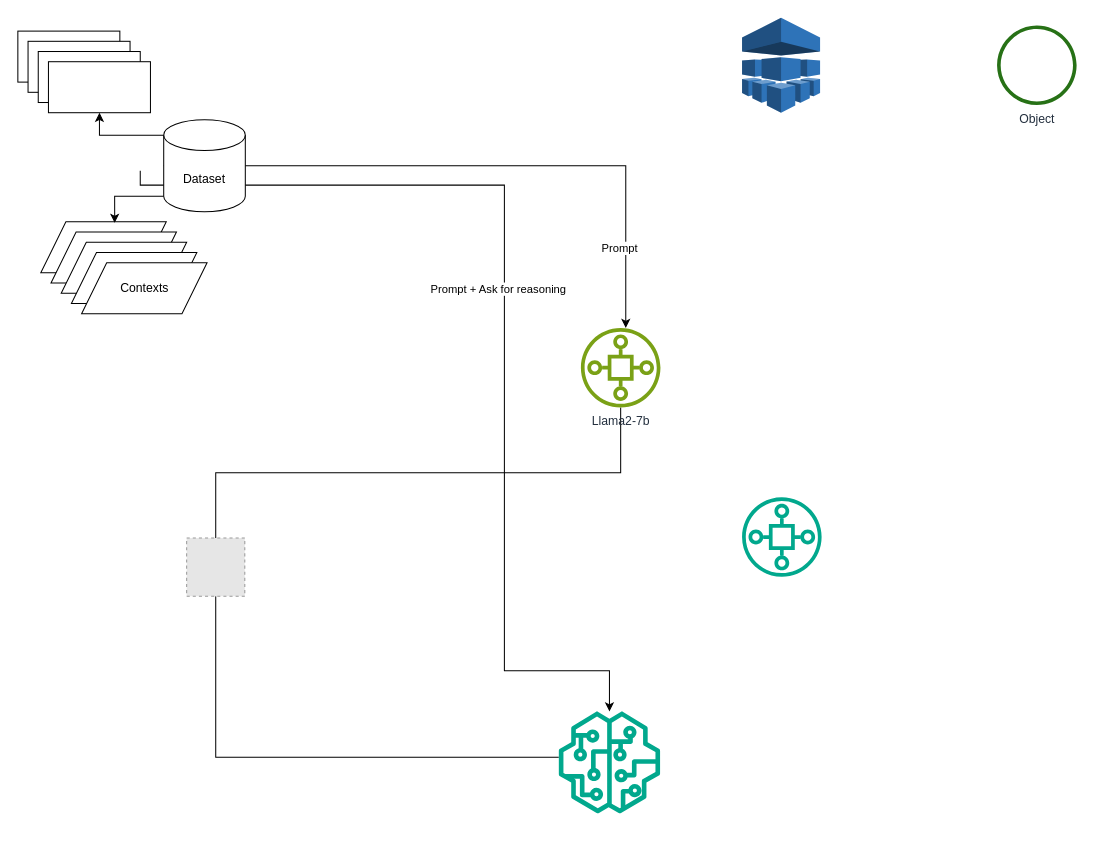
Some shapes in this 1094 by 853 pixel diagram are drawn without their labels. Grey dashed boxes stand in for pictures. Each missing label, with the centre of its shape:
"Games" belongs at point 98,87.
"Llama2-70b" belongs at point 609,762.
